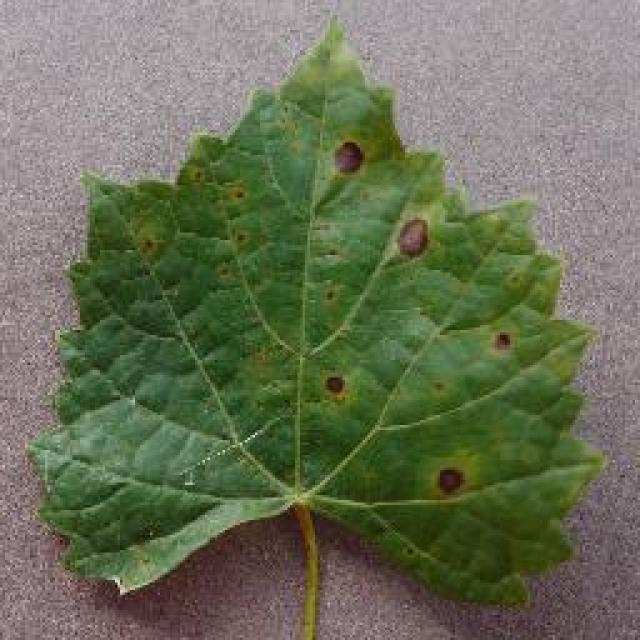Grape___Black_rot: (19, 9, 608, 638)
